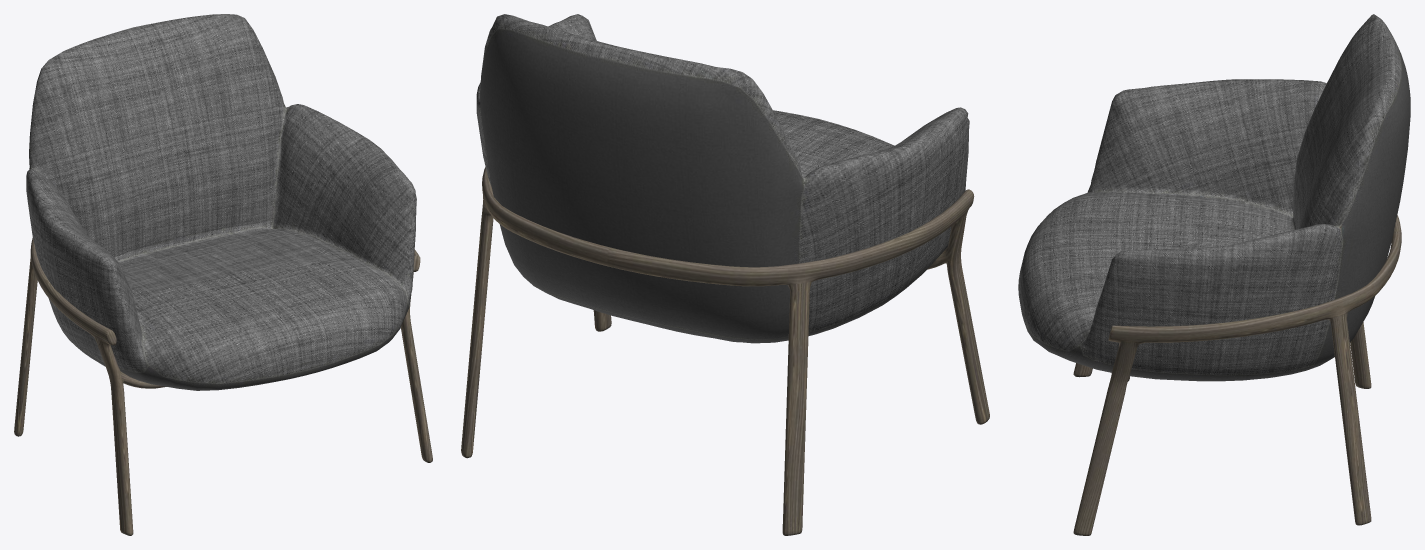
The model's file is skb8272255.glb.
3 views of the same model, side by side, from view 1: azimuth 30°, elevation 25°; view 2: azimuth 150°, elevation 25°; view 3: azimuth 270°, elevation 25° (orthographic). The views are drawn at different scales.
Visible parts, largest first — view 1: geo1_low, geo2_low; view 2: geo1_low, geo2_low; view 3: geo1_low, geo2_low.
Part boxes in pixels (box(x1,y1,x2,y2)): geo1_low: box(26, 14, 416, 390); geo2_low: box(14, 237, 432, 535); geo1_low: box(476, 14, 969, 343); geo2_low: box(461, 167, 989, 535); geo1_low: box(1018, 14, 1410, 381); geo2_low: box(1073, 215, 1401, 535).
Bounding box in the file's own units: 0.7751 × 0.82 × 0.7377.
Materials: 1 (1 with a texture image).
